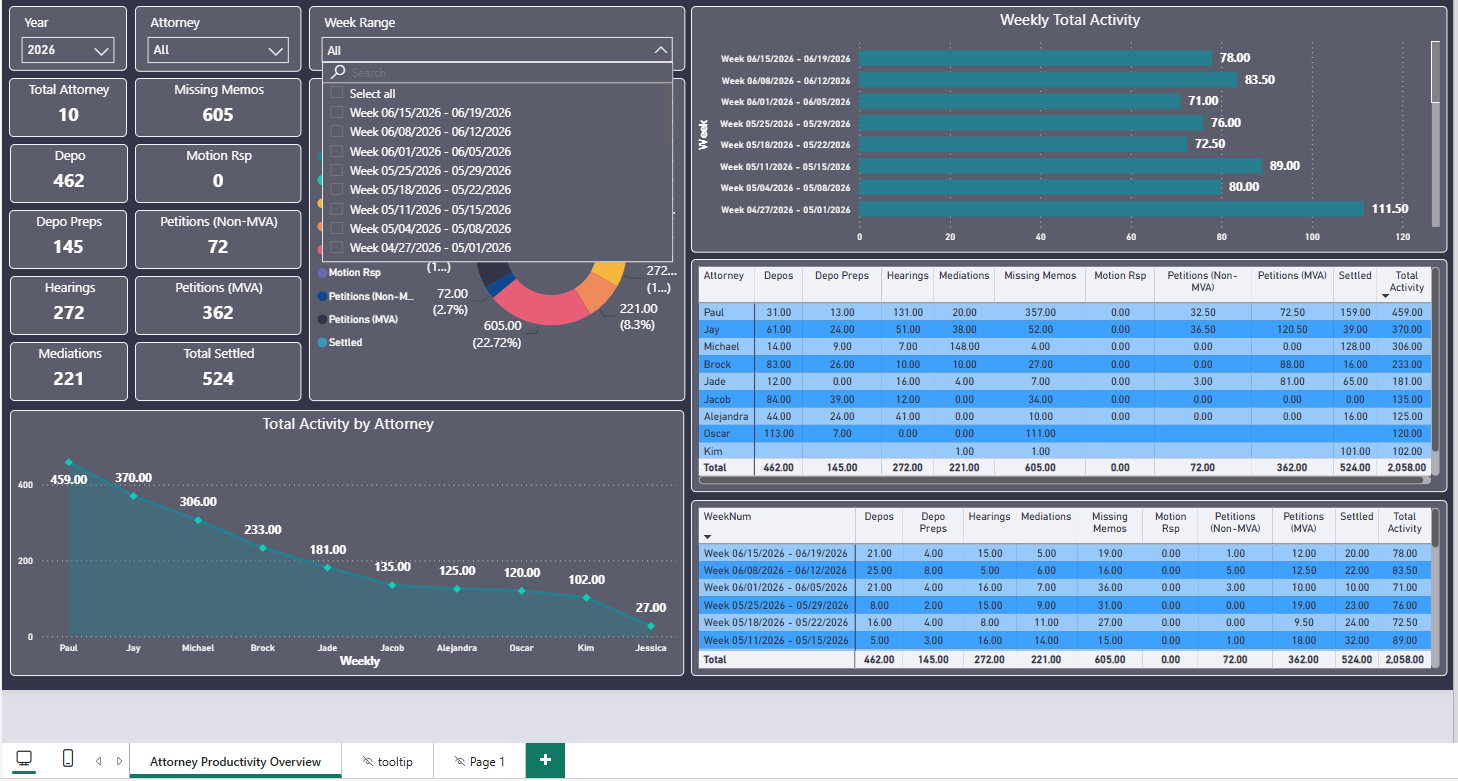

What the dashboard file says about the page in this screenshot:
{"tool":"powerbi","page":{"name":"Attorney Productivity Overview","canvas":[1500,720],"ordinal":0},"visuals":[{"type":"slicer","fields":{"Values":["Main.WeekNum"]},"box":[316.9,12.5,388.7,67.2],"z":0},{"type":"slicer","fields":{"Values":["Main.Attorney"]},"box":[137.5,12.1,171.8,67.7],"z":1000},{"type":"clusteredBarChart","title":"Weekly Total Activity","fields":{"Category":["Main.WeekNum"],"Y":["Main.Total Activity Main"]},"box":[712.4,12.5,781.9,255.3],"z":2000},{"type":"donutChart","title":"Activity % of total","fields":{"Y":["Sum(Main.Depos )","Sum(Main.Depo Preps)","Sum(Main.Hearings )","Sum(Main.Mediations)","Sum(Main.Missing Memos )","Sum(Main.Motion Rsp)","Sum(Main.Petitions (Non-MVA))","Sum(Main.Petitions (MVA))","Sum(Main.Settled )"]},"box":[316.9,86.6,388.7,334],"z":3000},{"type":"slicer","fields":{"Values":["Main.Year"]},"box":[7.2,12.6,122.2,67.4],"z":4000},{"type":"pivotTable","title":"Activity Breakdown","fields":{"Values":["Sum(Main.Depos )","Sum(Main.Depo Preps)","Sum(Main.Hearings )","Sum(Main.Mediations)","Sum(Main.Missing Memos )","Sum(Main.Motion Rsp)","Sum(Main.Petitions (Non-MVA))","Sum(Main.Petitions (MVA))","Sum(Main.Settled )","Main.Total Activity Main"],"Rows":["Main.WeekNum"]},"box":[712.6,522.6,782.3,181.9],"z":5000},{"type":"card","title":"Depo Preps","fields":{"Values":["Sum(Main.Depo Preps)"]},"box":[7.1,223.4,122.3,60.6],"z":6000},{"type":"card","title":"Depo","fields":{"Values":["Sum(Main.Depos )"]},"box":[8.1,154.6,122.3,60.6],"z":7000},{"type":"card","title":"Hearings","fields":{"Values":["Sum(Main.Hearings )"]},"box":[8.1,291.1,122.3,60.6],"z":8000},{"type":"card","title":"Mediations","fields":{"Values":["Sum(Main.Mediations)"]},"box":[8.1,359.8,122.3,60.6],"z":9000},{"type":"card","title":"Missing Memos ","fields":{"Values":["Sum(Main.Missing Memos )"]},"box":[137.5,86.9,171.8,60.6],"z":10000},{"type":"card","title":"Motion Rsp","fields":{"Values":["Sum(Main.Motion Rsp)"]},"box":[137.5,154.6,171.8,60.6],"z":11000},{"type":"card","title":"Petitions (MVA)","fields":{"Values":["Sum(Main.Petitions (MVA))"]},"box":[137.5,291.1,171.8,60.6],"z":12000},{"type":"card","title":"Petitions (Non-MVA)","fields":{"Values":["Sum(Main.Petitions (Non-MVA))"]},"box":[137.5,223.4,171.8,60.6],"z":13000},{"type":"card","title":"Total Settled","fields":{"Values":["Sum(Main.Settled )"]},"box":[137.5,359.8,171.8,60.6],"z":14000},{"type":"card","title":"Total Attorney","fields":{"Values":["Count(Main.Attorney)"]},"box":[7.1,86.9,122.3,60.6],"z":15000},{"type":"lineChart","title":"Total Activity by Attorney","fields":{"Category":["Main.Attorney"],"Y":["Main.Total Activity Main"]},"box":[8.1,429.6,697.4,274.9],"z":16000},{"type":"pivotTable","title":"Activity Breakdown","fields":{"Values":["Sum(Main.Depos )","Sum(Main.Depo Preps)","Sum(Main.Hearings )","Sum(Main.Mediations)","Sum(Main.Missing Memos )","Sum(Main.Motion Rsp)","Sum(Main.Petitions (Non-MVA))","Sum(Main.Petitions (MVA))","Sum(Main.Settled )","Main.Total Activity Main"],"Rows":["Main.Attorney"]},"box":[712.6,273.9,782.3,240.6],"z":17000}]}

Visuals, with their boxes on the page's 1500x720 design canvas (x1, y1, x2, y2). These are canvas units, not pixel positions in the 1458x781 screenshot, which may show the page scaled, cropped or inside an application window:
slicer - Main.WeekNum: select_region(317, 12, 706, 80)
slicer - Main.Attorney: select_region(138, 12, 309, 80)
"Weekly Total Activity" clusteredBarChart: select_region(712, 12, 1494, 268)
"Activity % of total" donutChart: select_region(317, 87, 706, 421)
slicer - Main.Year: select_region(7, 13, 129, 80)
"Activity Breakdown" pivotTable: select_region(713, 523, 1495, 704)
"Depo Preps" card: select_region(7, 223, 129, 284)
"Depo" card: select_region(8, 155, 130, 215)
"Hearings" card: select_region(8, 291, 130, 352)
"Mediations" card: select_region(8, 360, 130, 420)
"Missing Memos " card: select_region(138, 87, 309, 148)
"Motion Rsp" card: select_region(138, 155, 309, 215)
"Petitions (MVA)" card: select_region(138, 291, 309, 352)
"Petitions (Non-MVA)" card: select_region(138, 223, 309, 284)
"Total Settled" card: select_region(138, 360, 309, 420)
"Total Attorney" card: select_region(7, 87, 129, 148)
"Total Activity by Attorney" lineChart: select_region(8, 430, 706, 704)
"Activity Breakdown" pivotTable: select_region(713, 274, 1495, 514)
